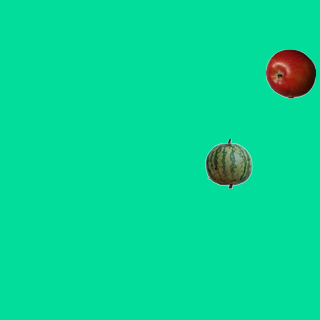Apple Braeburn: (265, 48, 315, 98)
Watermelon: (203, 138, 253, 188)
